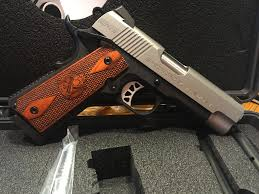gun: (8, 6, 244, 138)
